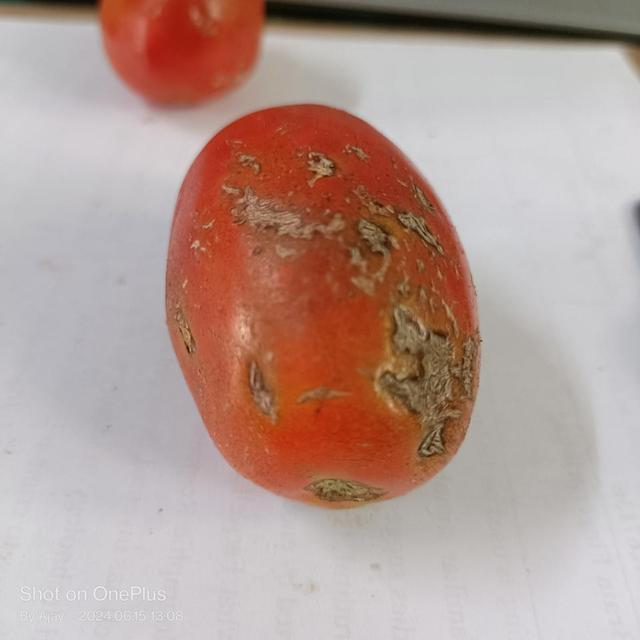Bacterial Spot Fruit: (22, 24, 285, 255)
